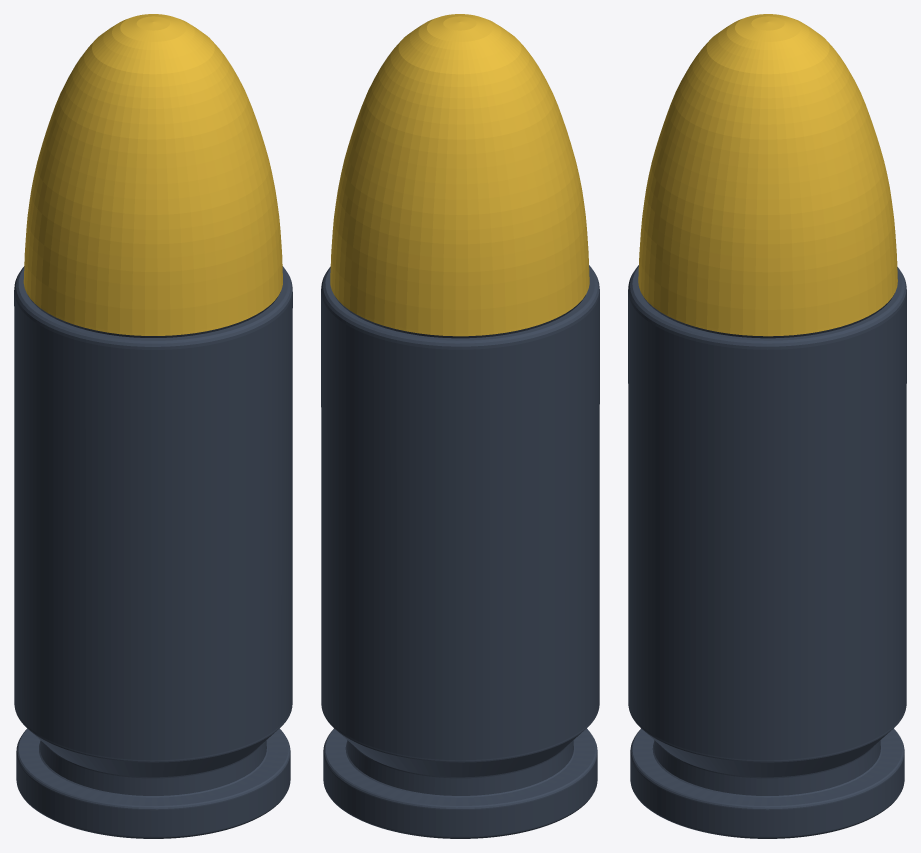
3 renders of one model, left to right at view 1: azimuth 30°, elevation 25°; view 2: azimuth 150°, elevation 25°; view 3: azimuth 270°, elevation 25°, orthographic.
Visible parts, largest first — view 1: Bullet.001; view 2: Bullet.001; view 3: Bullet.001.
Boxes of the visible parts, x1,y1,x2,y2 form: Bullet.001: [14, 14, 292, 838]; Bullet.001: [321, 14, 599, 838]; Bullet.001: [628, 14, 906, 838].
Bounding box in the file's own units: 1.1 × 3.3 × 1.1.
